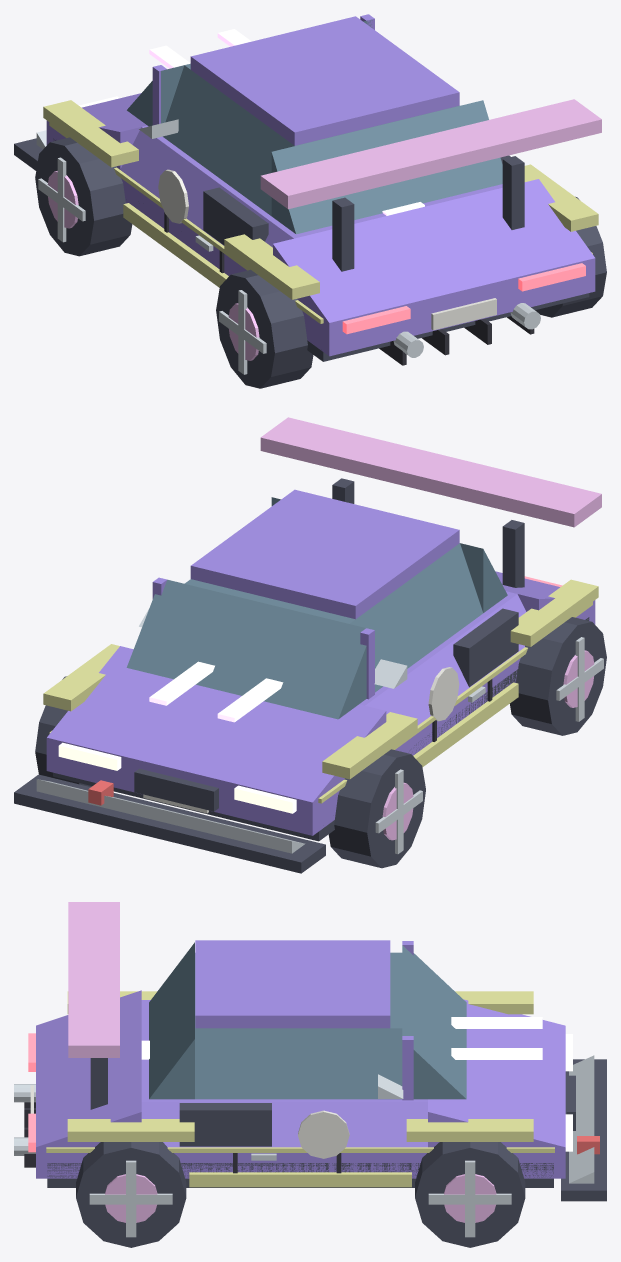
Rendered from gridline_gt.glb.
The picture shows the model from 3 angles, top to bottom: view 1: azimuth 30°, elevation 25°; view 2: azimuth 150°, elevation 25°; view 3: azimuth 270°, elevation 25°; orthographic projection. The views are drawn at different scales.
Visible parts, largest first — view 1: Tail.086, Roof.286, RearWing.049, RearWindow.186, Body.286, CabinSideL.083, Wheel_RL.246, Wheel_FL.246, ShoulderL.083, Arch-1False.162, Arch-1True.162, AirIntake-1.049 (+25 smaller); view 2: Nose.083, Windshield.186, Roof.286, RearWing.049, CabinSideL.083, Body.286, Splitter.053, Wheel_FL.246, Wheel_RL.246, ShoulderL.083, Bumper.282, AirIntake-1.049 (+24 smaller); view 3: Roof.286, CabinSideR.083, Nose.083, Tail.086, RearWing.049, Windshield.186, Wheel_RR.246, Wheel_FR.246, Body.286, ShoulderR.083, RearWindow.186, AirIntake1.049 (+22 smaller).
Boxes of the visible parts, left/top/right/bottom form: Tail.086: left=273, top=179, right=594, bottom=322; Roof.286: left=190, top=16, right=459, bottom=145; RearWing.049: left=260, top=99, right=601, bottom=209; RearWindow.186: left=271, top=100, right=502, bottom=234; Body.286: left=46, top=120, right=595, bottom=356; CabinSideL.083: left=163, top=65, right=294, bottom=215; Wheel_RL.246: left=216, top=269, right=313, bottom=388; Wheel_FL.246: left=35, top=137, right=132, bottom=256; ShoulderL.083: left=120, top=127, right=293, bottom=247; Arch-1False.162: left=43, top=100, right=138, bottom=167; Arch-1True.162: left=224, top=234, right=319, bottom=299; AirIntake-1.049: left=203, top=187, right=268, bottom=244; Nose.083: left=47, top=646, right=386, bottom=802; Windshield.186: left=126, top=579, right=366, bottom=719; Roof.286: left=190, top=489, right=459, bottom=619; RearWing.049: left=260, top=417, right=601, bottom=527; CabinSideL.083: left=350, top=543, right=482, bottom=692; Body.286: left=46, top=600, right=595, bottom=835; Splitter.053: left=14, top=774, right=325, bottom=873; Wheel_FL.246: left=328, top=749, right=425, bottom=868; Wheel_RL.246: left=510, top=617, right=606, bottom=735; ShoulderL.083: left=365, top=594, right=526, bottom=725; Bumper.282: left=36, top=779, right=305, bottom=853; AirIntake-1.049: left=453, top=608, right=518, bottom=687; Roof.286: left=195, top=940, right=390, bottom=1028; CabinSideR.083: left=195, top=1028, right=402, bottom=1099; Nose.083: left=428, top=999, right=565, bottom=1147; Tail.086: left=36, top=990, right=141, bottom=1147; RearWing.049: left=68, top=902, right=119, bottom=1057; Windshield.186: left=402, top=945, right=466, bottom=1099; Wheel_RR.246: left=76, top=1142, right=186, bottom=1247; Wheel_FR.246: left=415, top=1142, right=525, bottom=1247; Body.286: left=36, top=1147, right=565, bottom=1178; ShoulderR.083: left=141, top=1102, right=427, bottom=1147; RearWindow.186: left=149, top=942, right=194, bottom=1099; AirIntake1.049: left=179, top=1103, right=271, bottom=1146.
Bounding box in the file's own units: 3.2 × 1.9 × 5.15.
